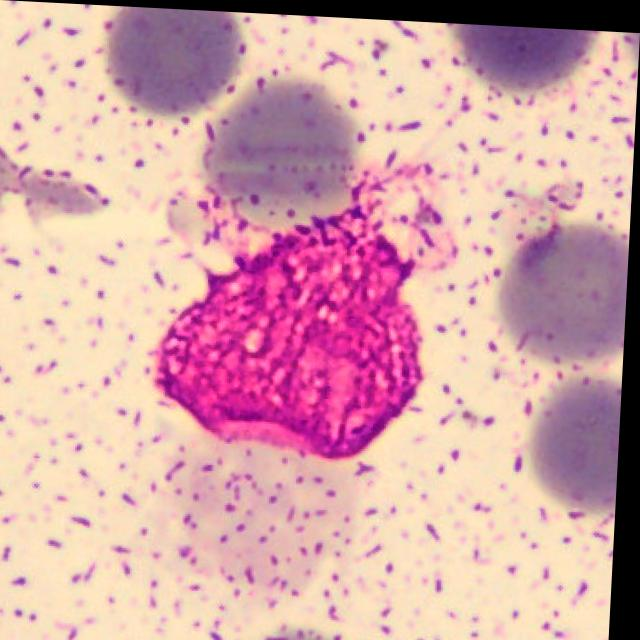Restos celulares: (155, 181, 427, 455)
